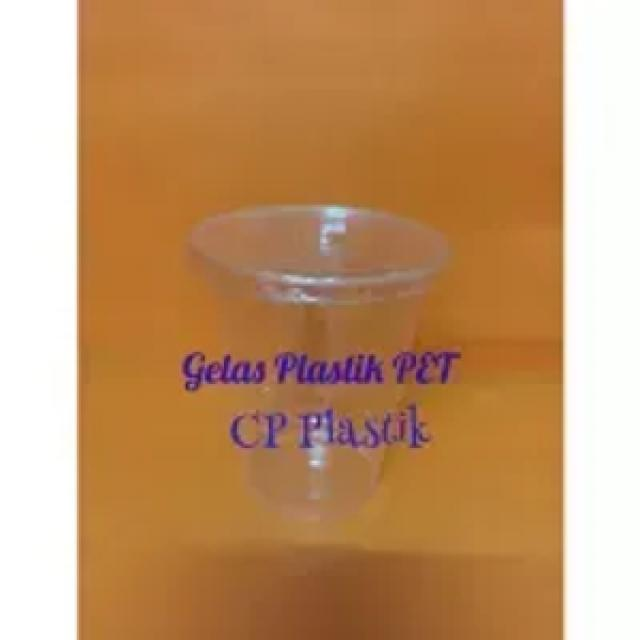plastic cup: (177, 201, 461, 518)
